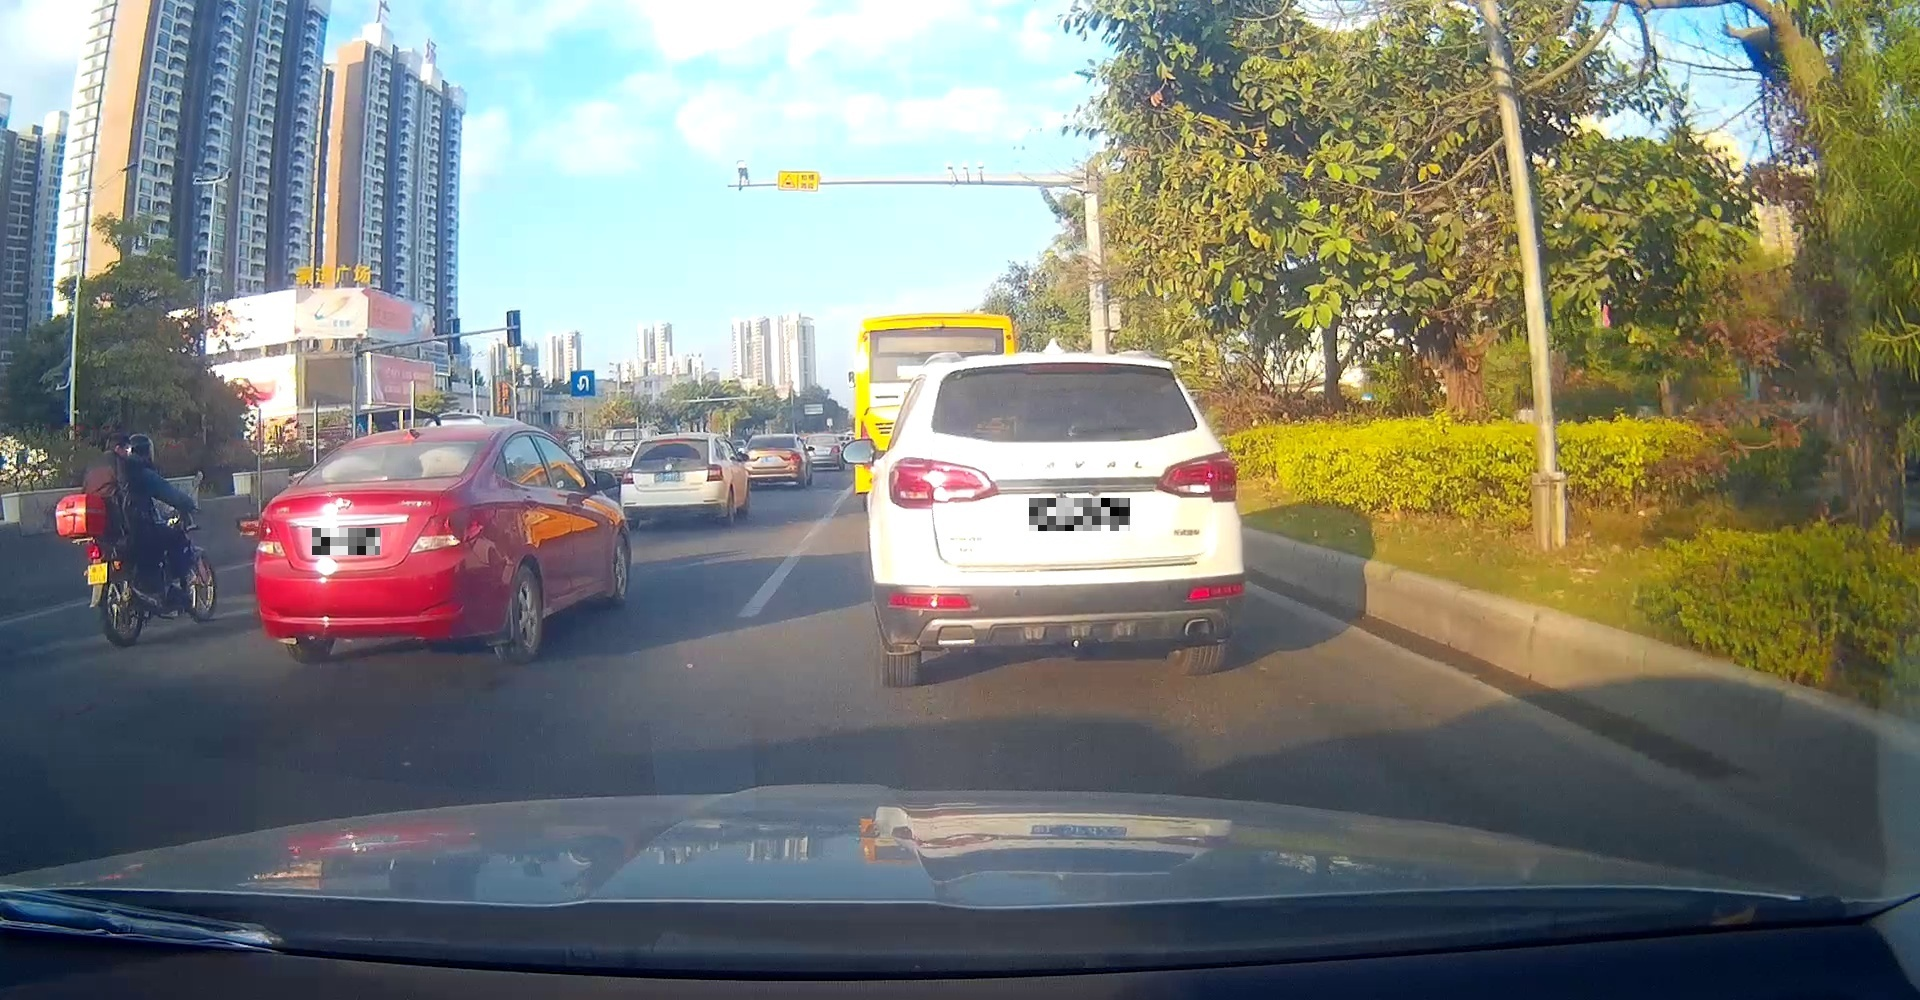L_light: (888, 456, 1001, 510), (255, 518, 286, 556), (621, 468, 635, 485)
R_light: (409, 503, 497, 555), (1154, 451, 1237, 503), (706, 464, 724, 482)
T_light: (1023, 363, 1107, 374), (356, 476, 389, 482), (664, 439, 684, 442)
day-no: (872, 350, 1244, 688), (253, 424, 500, 662), (620, 433, 725, 530)
plate_1: (312, 528, 380, 555)
plate_2: (1029, 497, 1130, 530)
